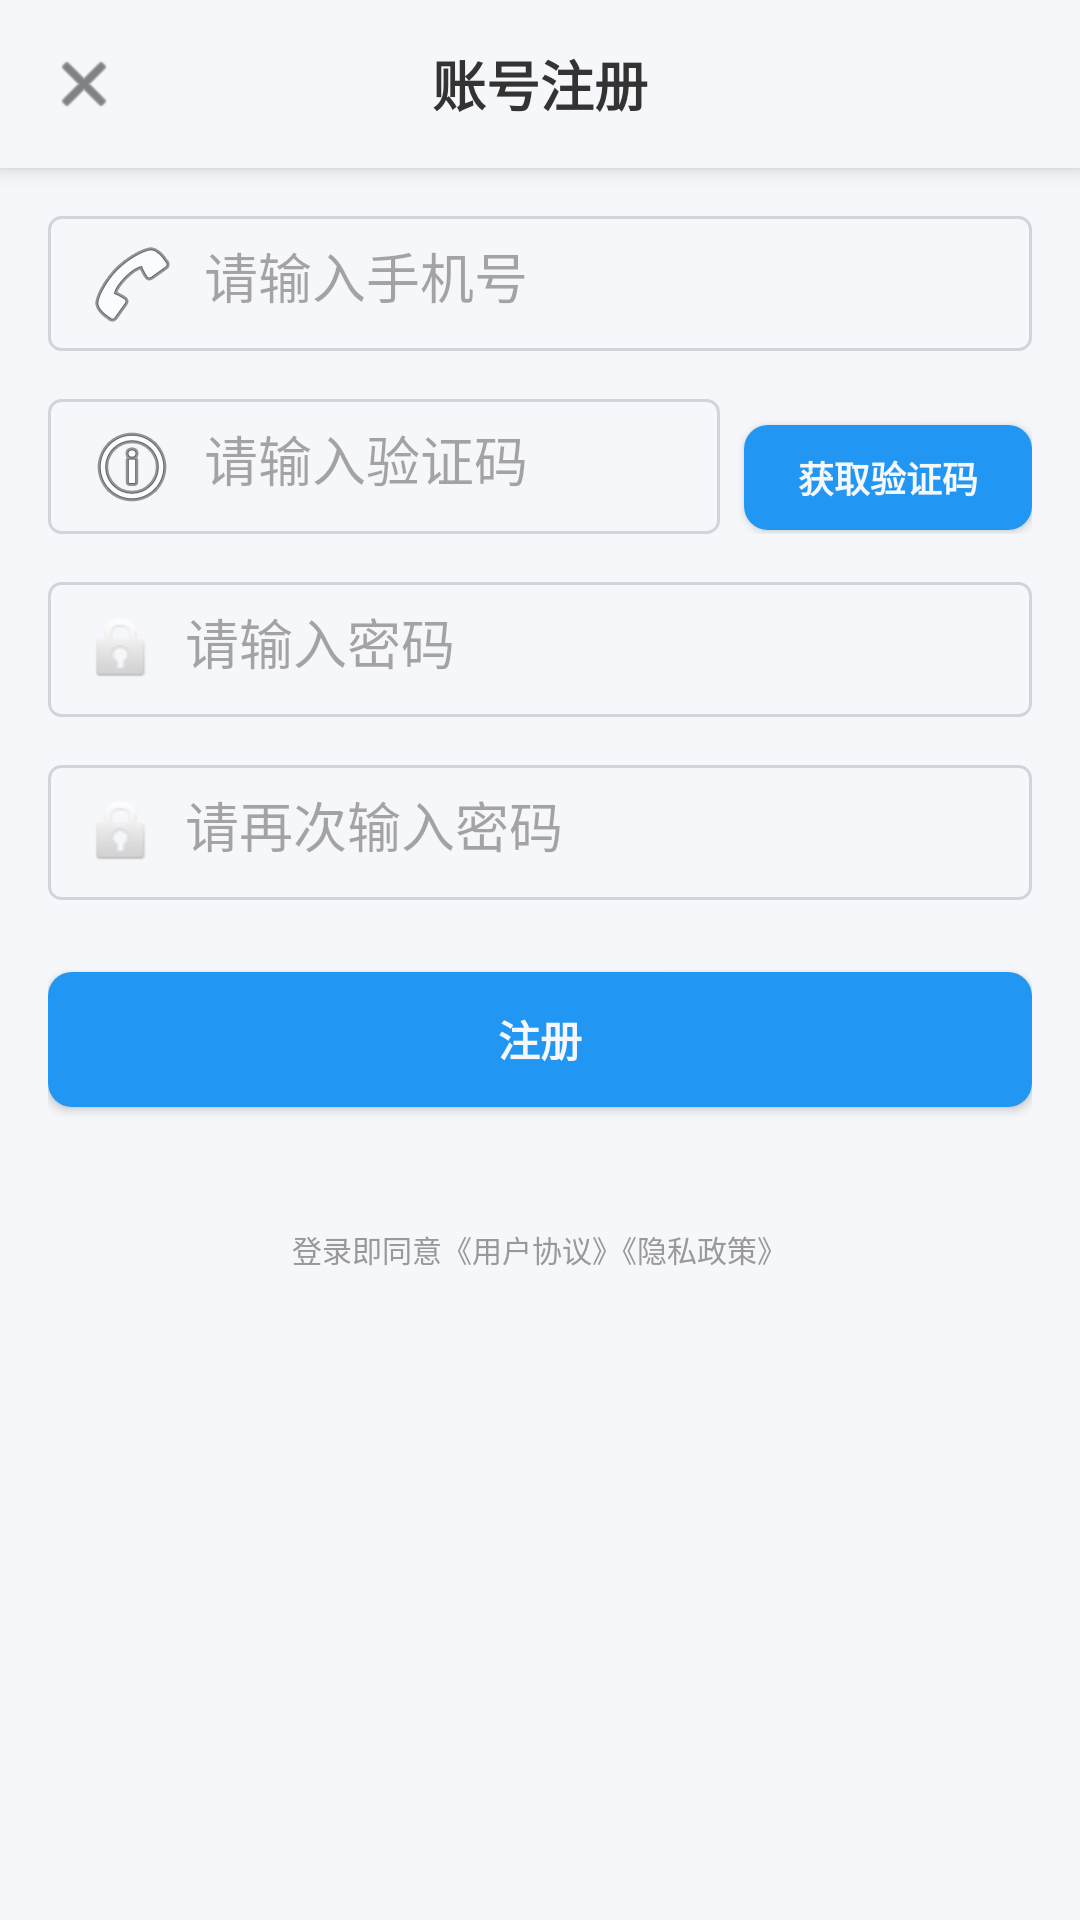

Named icons in this screenshot (1080px×1920px) and their centers, point (x, y):
返回: point (84, 84)
